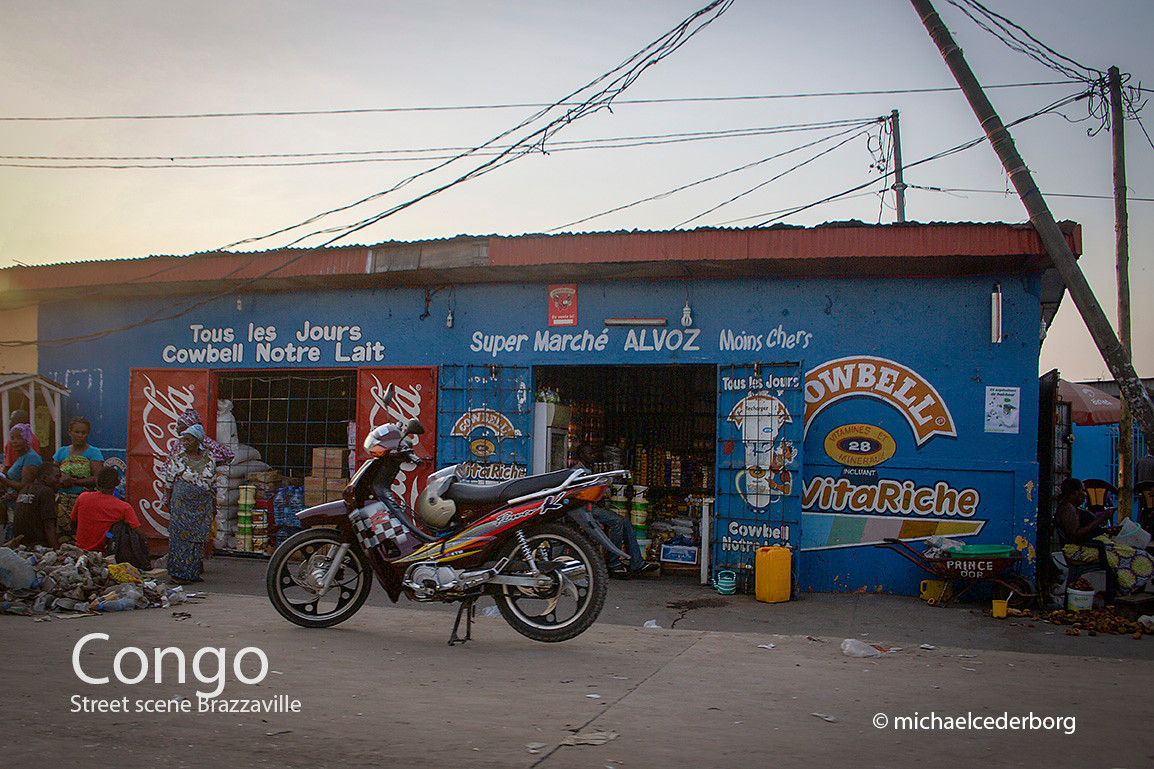motorbike: (256, 408, 663, 651)
